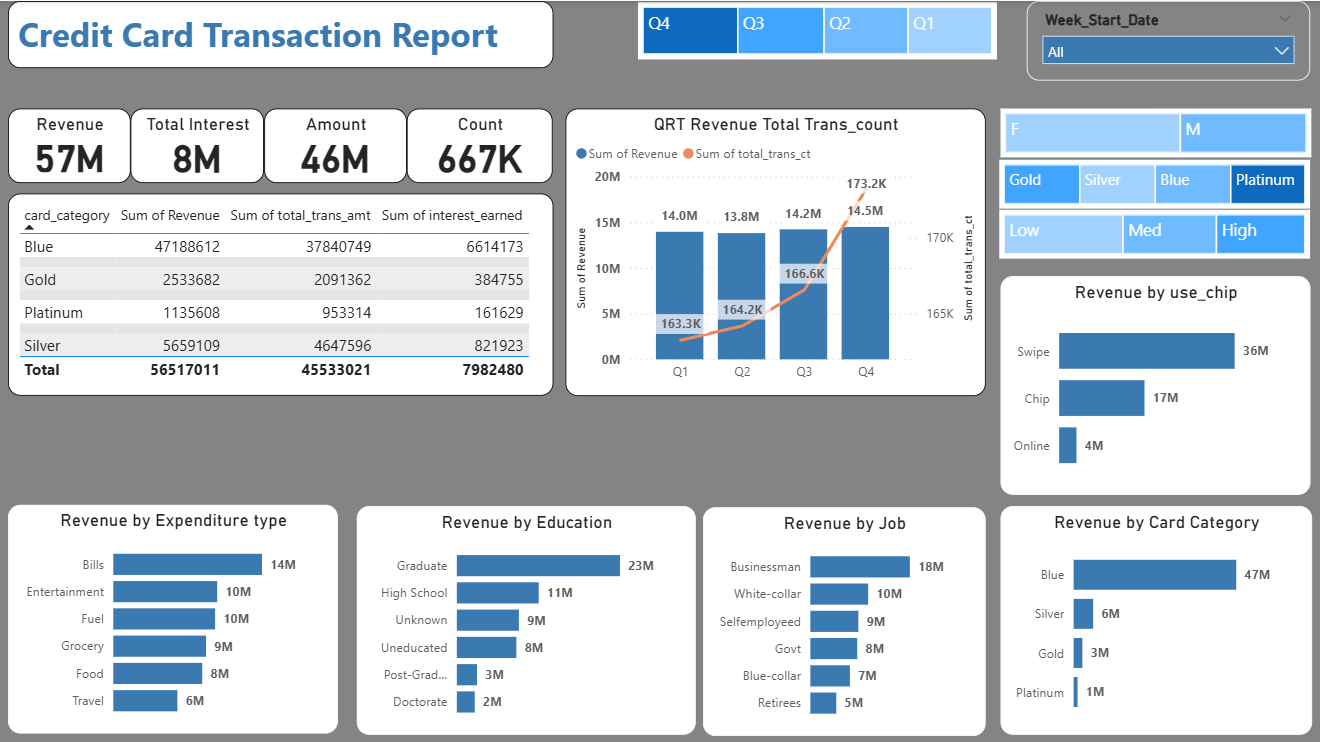

The dashboard page shown, as its layout file describes it:
{"tool":"powerbi","page":{"name":"Credit Card Transation","canvas":[1280,720],"ordinal":1},"visuals":[{"type":"textbox","box":[9.7,0,526,65.1],"z":0},{"type":"lineStackedColumnComboChart","title":"QRT Revenue Total Trans_count","fields":{"Category":["public cc_detail.qtr"],"Y":["Sum(public cc_detail.Revenue)"],"Y2":["Sum(public cc_detail.total_trans_ct)"]},"box":[547.7,103.8,405.4,277.5],"z":1000},{"type":"barChart","title":"Revenue by Expenditure type","fields":{"Y":["Sum(public cc_detail.Revenue)"],"Category":["public cc_detail.exp_type"]},"box":[9.8,485.7,318.5,220.9],"z":2000},{"type":"barChart","title":"Revenue by Education","fields":{"Y":["Sum(public cc_detail.Revenue)"],"Category":["public cust_detail.education_level"]},"box":[346.6,487,327.1,220.9],"z":3000},{"type":"barChart","title":"Revenue by Job","fields":{"Y":["Sum(public cc_detail.Revenue)"],"Category":["public cust_detail.customer_job"]},"box":[680.4,488.6,272.7,220.8],"z":4000},{"type":"barChart","title":"Revenue by Card Category","fields":{"Y":["Sum(public cc_detail.Revenue)"],"Category":["public cc_detail.card_category"]},"box":[967.6,487.4,300.4,220.8],"z":5000},{"type":"barChart","title":"Revenue by use_chip","fields":{"Y":["Sum(public cc_detail.Revenue)"],"Category":["public cc_detail.use_chip"]},"box":[967.6,265.4,299.2,211.1],"z":6000},{"type":"tableEx","fields":{"Values":["public cc_detail.card_category","Sum(public cc_detail.Revenue)","Sum(public cc_detail.total_trans_amt)","Sum(public cc_detail.interest_earned)"]},"box":[9.8,185.5,526,195.3],"z":7000},{"type":"card","title":"Revenue","fields":{"Values":["Sum(public cc_detail.Revenue)"]},"box":[9.8,103.7,118.4,72],"z":8000},{"type":"card","title":"Amount","fields":{"Values":["Sum(public cc_detail.total_trans_amt)"]},"box":[257,103.8,137.5,72.4],"z":9000},{"type":"card","title":"Total Interest","fields":{"Values":["Sum(public cc_detail.interest_earned)"]},"box":[127.9,103.8,129.1,72.4],"z":10000},{"type":"card","title":"Count","fields":{"Values":["Sum(public cc_detail.total_trans_ct)"]},"box":[394.5,103.8,141.2,72.4],"z":11000},{"type":"slicer","fields":{"Values":["public cc_detail.week_start_date"]},"box":[993.4,0,273.4,76.9],"z":12000},{"type":"treemap","fields":{"Group":["public cc_detail.qtr"],"Values":["Avg(public cc_detail.client_num)"]},"box":[617.5,1.2,346.6,54.9],"z":13000},{"type":"treemap","fields":{"Group":["public cust_detail.gender"],"Values":["CountNonNull(public cc_detail.client_num)"]},"box":[967.8,103.7,300.2,47.6],"z":14000},{"type":"treemap","fields":{"Group":["public cc_detail.card_category"],"Values":["Avg(public cc_detail.client_num)"]},"box":[966.6,153.8,300.2,47.6],"z":15000},{"type":"treemap","fields":{"Group":["public cust_detail.IncomeGroup"],"Values":["CountNonNull(public cc_detail.Revenue)"]},"box":[966.6,201.4,300.2,47.6],"z":16000}]}

Visuals, with their boxes in screenshot pixels (x1, y1, x2, y2), scaled from the page's 1280x720 canvas onto the 1320x742 screenshot:
textbox: bbox=(10, 0, 552, 67)
"QRT Revenue Total Trans_count" lineStackedColumnComboChart: bbox=(565, 107, 983, 393)
"Revenue by Expenditure type" barChart: bbox=(10, 501, 339, 728)
"Revenue by Education" barChart: bbox=(357, 502, 695, 730)
"Revenue by Job" barChart: bbox=(702, 504, 983, 731)
"Revenue by Card Category" barChart: bbox=(998, 502, 1308, 730)
"Revenue by use_chip" barChart: bbox=(998, 274, 1306, 491)
tableEx - public cc_detail.card_category x Sum(public cc_detail.Revenue): bbox=(10, 191, 553, 392)
"Revenue" card: bbox=(10, 107, 132, 181)
"Amount" card: bbox=(265, 107, 407, 182)
"Total Interest" card: bbox=(132, 107, 265, 182)
"Count" card: bbox=(407, 107, 552, 182)
slicer - public cc_detail.week_start_date: bbox=(1024, 0, 1306, 79)
treemap - public cc_detail.qtr x Avg(public cc_detail.client_num): bbox=(637, 1, 994, 58)
treemap - public cust_detail.gender x CountNonNull(public cc_detail.client_num): bbox=(998, 107, 1308, 156)
treemap - public cc_detail.card_category x Avg(public cc_detail.client_num): bbox=(997, 158, 1306, 208)
treemap - public cust_detail.IncomeGroup x CountNonNull(public cc_detail.Revenue): bbox=(997, 208, 1306, 257)
